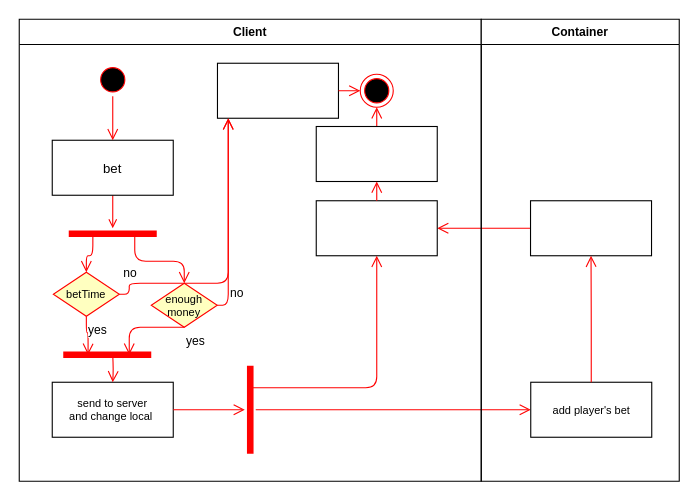
This 699x501 diagram has some shape labels left out. Here are the shapes that lost their labels. From the top down, the centre of each, then its label:
point (277, 90): error message
point (376, 153): play bet to table animation
point (376, 228): change bet label
point (590, 228): add global bet and send to other player
